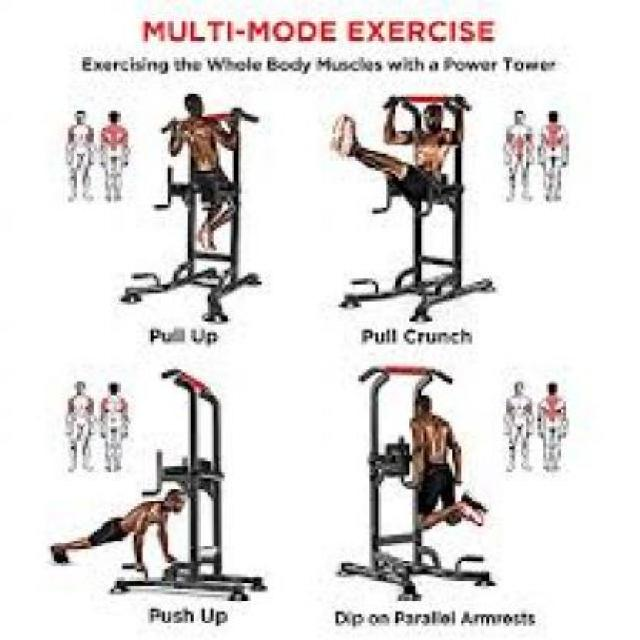chinning dipping: (326, 94, 500, 323), (337, 365, 501, 600), (120, 91, 260, 323)
